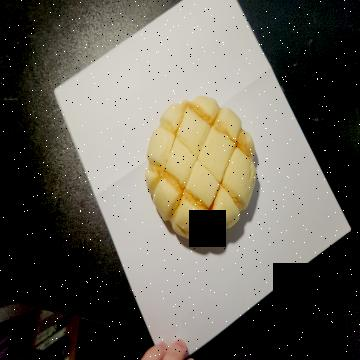melon_bread: (144, 94, 258, 245)
